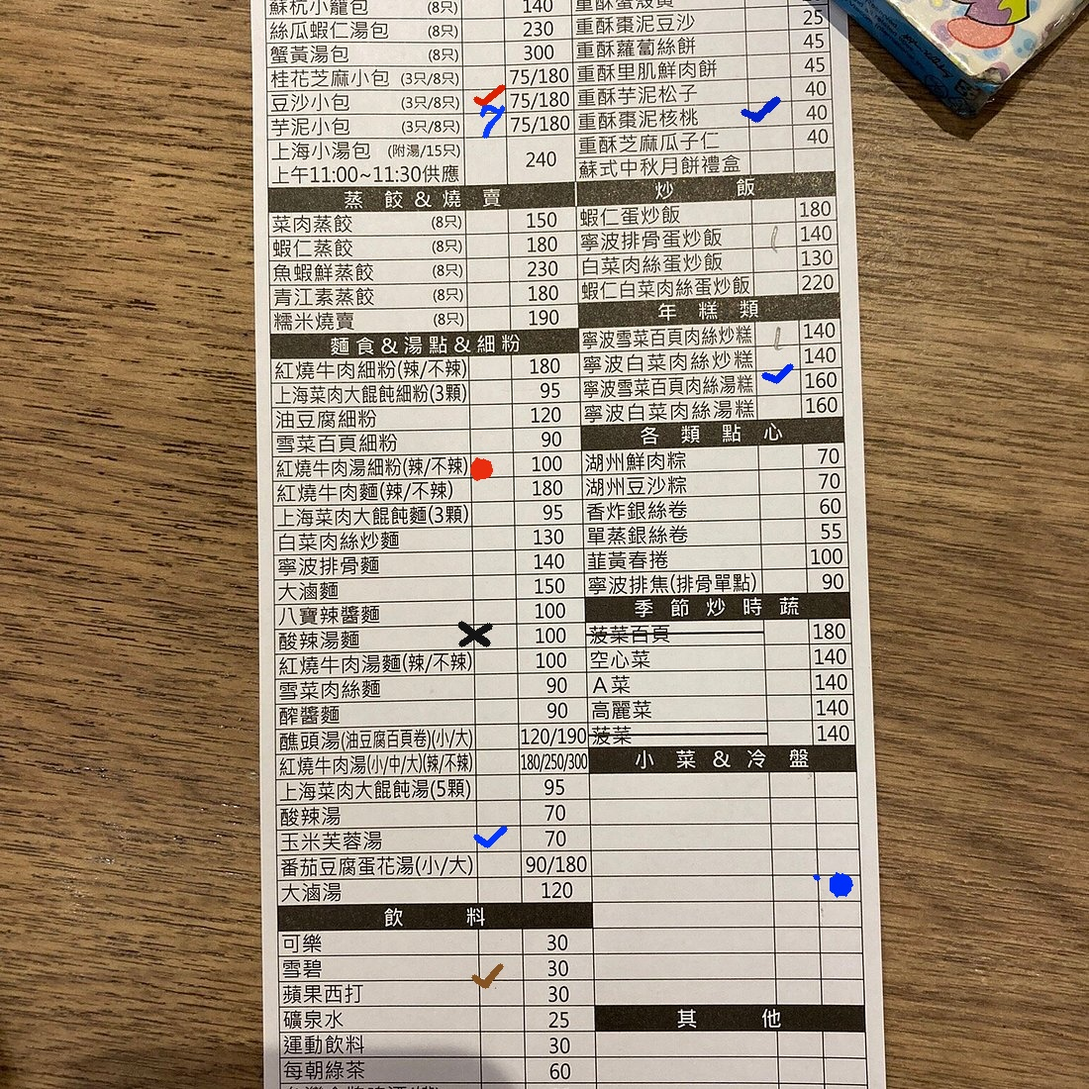marked_circle: (468, 452, 512, 480), (818, 874, 861, 902)
marked_number_7: (463, 107, 507, 135)
marked_tick: (463, 84, 507, 112), (757, 369, 801, 397), (749, 97, 793, 125), (479, 955, 523, 983), (477, 826, 521, 853)
marked_x: (474, 626, 518, 653)
